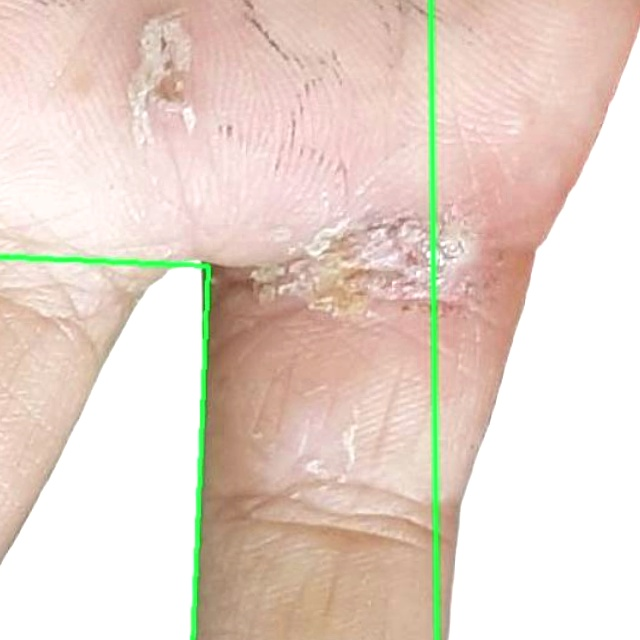Scabies: (0, 0, 639, 639), (430, 0, 639, 639), (0, 256, 209, 639)
